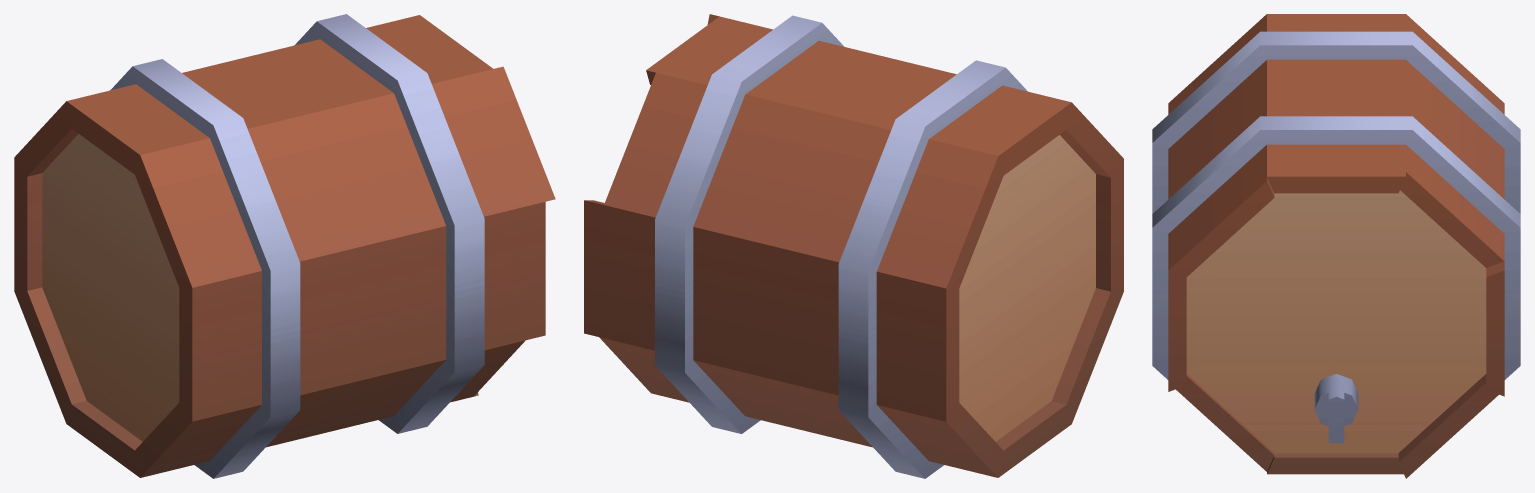
Rendered from barrel.glb.
3 renders of one model, left to right at view 1: azimuth 30°, elevation 25°; view 2: azimuth 150°, elevation 25°; view 3: azimuth 270°, elevation 25°, orthographic. The views are drawn at different scales.
Parts seen in each view (by area): view 1: barrel; view 2: barrel; view 3: barrel.
Part boxes in pixels (x1=…): barrel: x1=14, y1=14, x2=555, y2=478; barrel: x1=584, y1=14, x2=1123, y2=478; barrel: x1=1152, y1=14, x2=1520, y2=478.
Size of the model in its own units: 0.76 by 0.6789 by 0.6789.
1 material, 1 textured.
